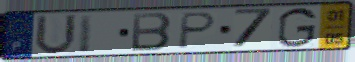7: (232, 7, 275, 51)
B: (130, 11, 174, 53)
G: (276, 6, 319, 49)
I: (77, 13, 95, 55)
P: (175, 11, 219, 51)
U: (33, 13, 79, 57)
